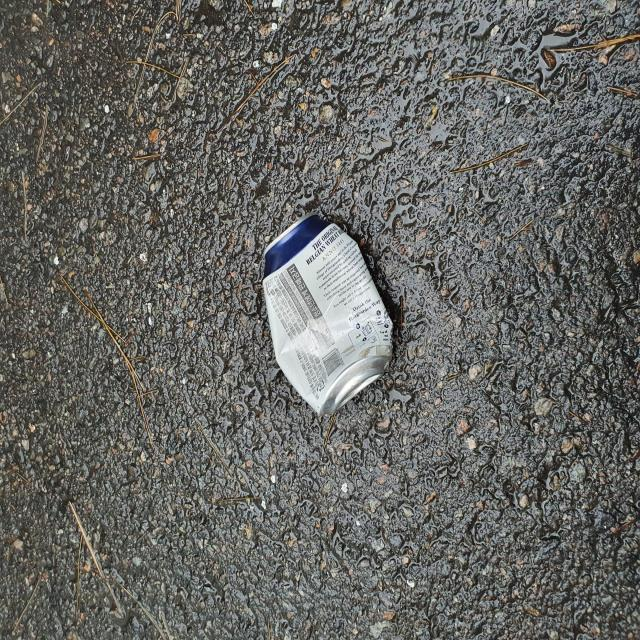can: (263, 214, 393, 414)
